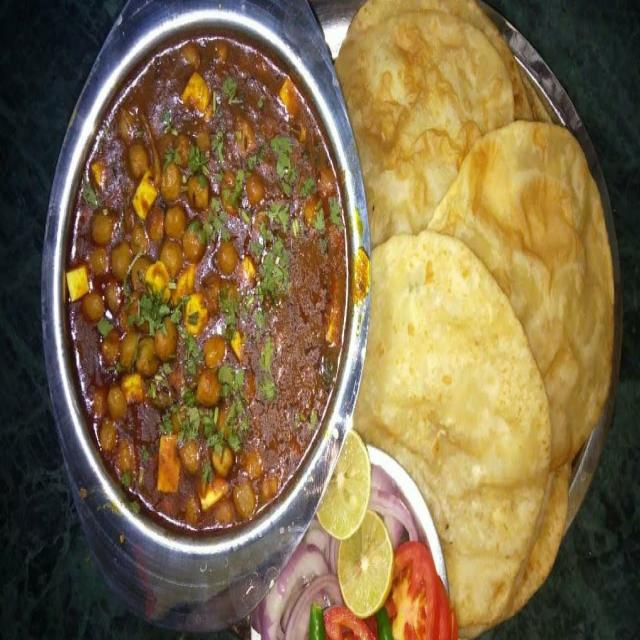Bhatura: (330, 0, 614, 637)
